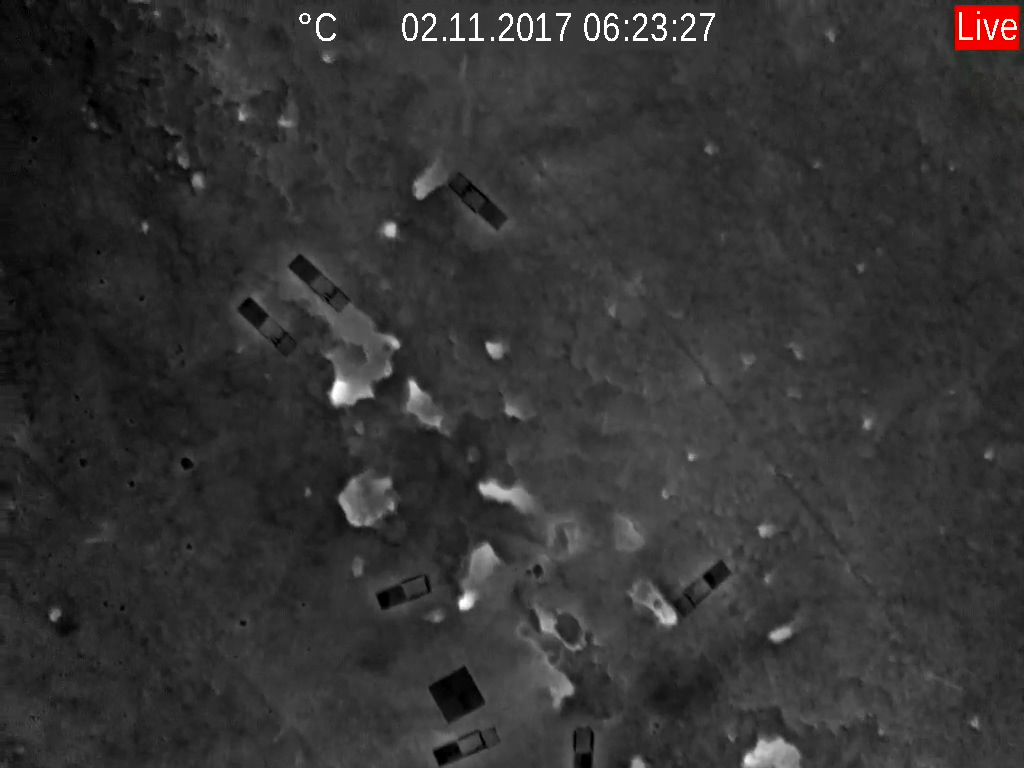warren: (304, 314, 399, 406), (522, 606, 590, 708), (445, 539, 499, 614), (627, 574, 681, 635), (736, 723, 804, 767), (471, 469, 538, 513), (403, 372, 446, 437), (405, 157, 449, 204), (477, 331, 510, 365), (766, 615, 798, 649), (380, 213, 403, 240)
